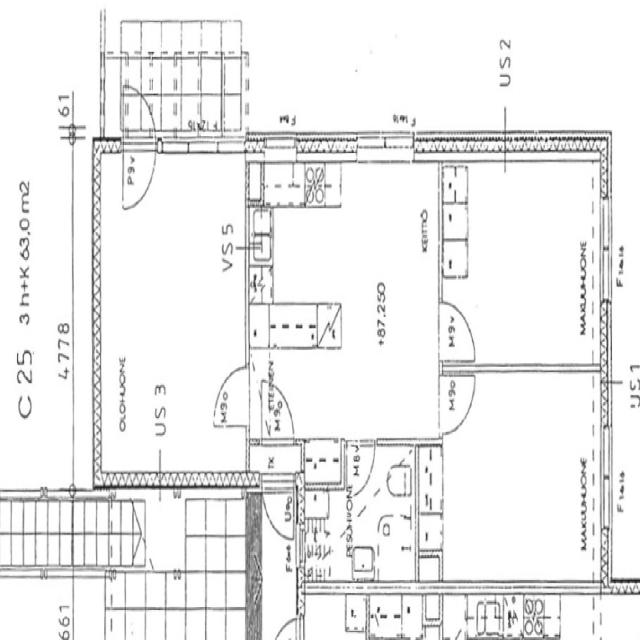door: (122, 88, 159, 210), (210, 358, 251, 432), (438, 297, 478, 364), (441, 368, 479, 435), (261, 474, 296, 546), (263, 378, 298, 444), (345, 437, 377, 497), (270, 611, 301, 640)
window: (598, 386, 630, 562), (355, 126, 417, 166), (596, 188, 616, 306), (597, 416, 615, 532), (158, 131, 222, 161)
zone: (94, 148, 249, 485), (246, 161, 444, 393), (440, 367, 602, 583), (444, 158, 604, 368), (344, 441, 416, 585), (605, 375, 640, 583), (300, 481, 352, 584), (299, 588, 367, 640), (417, 449, 443, 568), (245, 439, 302, 486), (303, 435, 345, 488), (369, 591, 410, 639)
